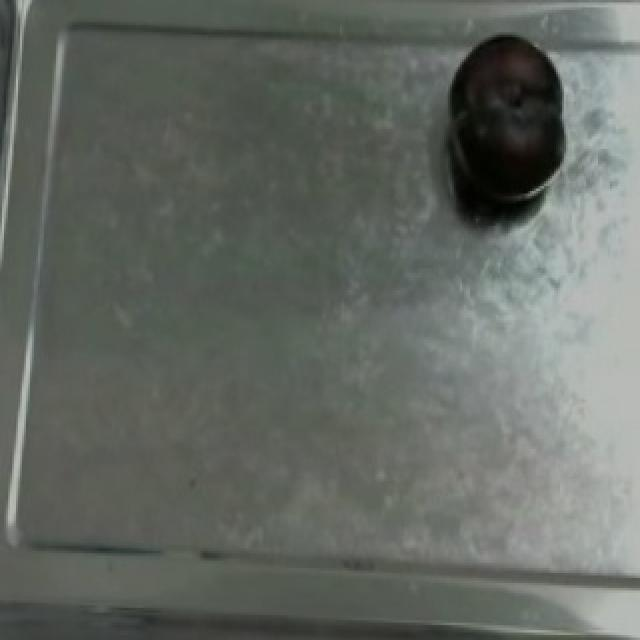Fruit: (440, 17, 580, 226)
